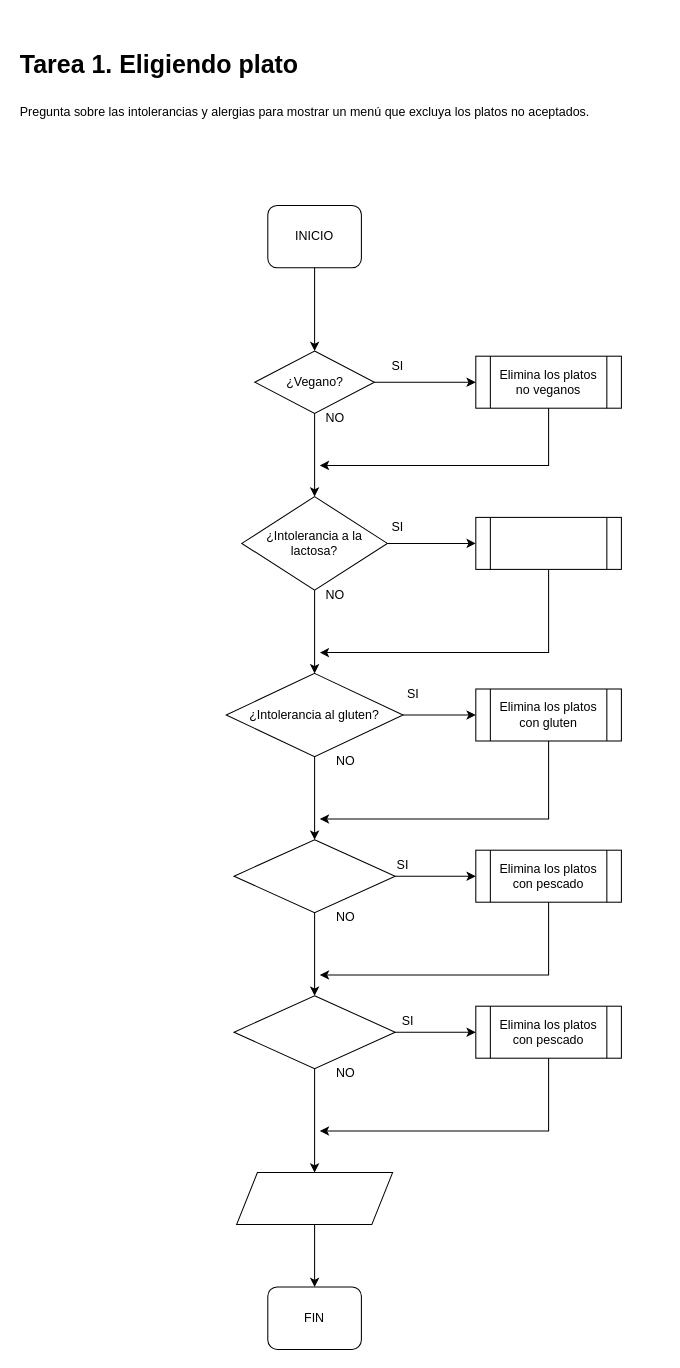
Image size: 680x1368. Some labels were removed from this diagram. The shapes that lost their labels are listed below. From the top down, each one's centre as x and y in pixels, then its label:
At point 548,542: "Elimina los platos con lactosa".
At point 314,876: "¿Alergia al pescado?".
At point 314,1032: "¿Alergia al marisco?".
At point 314,1198: "Muestra los platos restantes".
